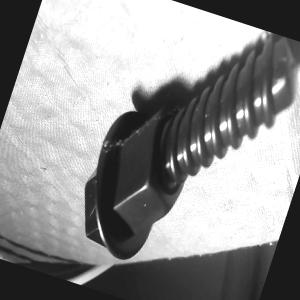parafuso: (65, 0, 300, 296)
